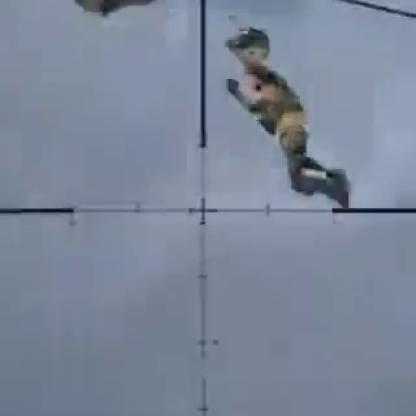enemy: (223, 55, 346, 209)
